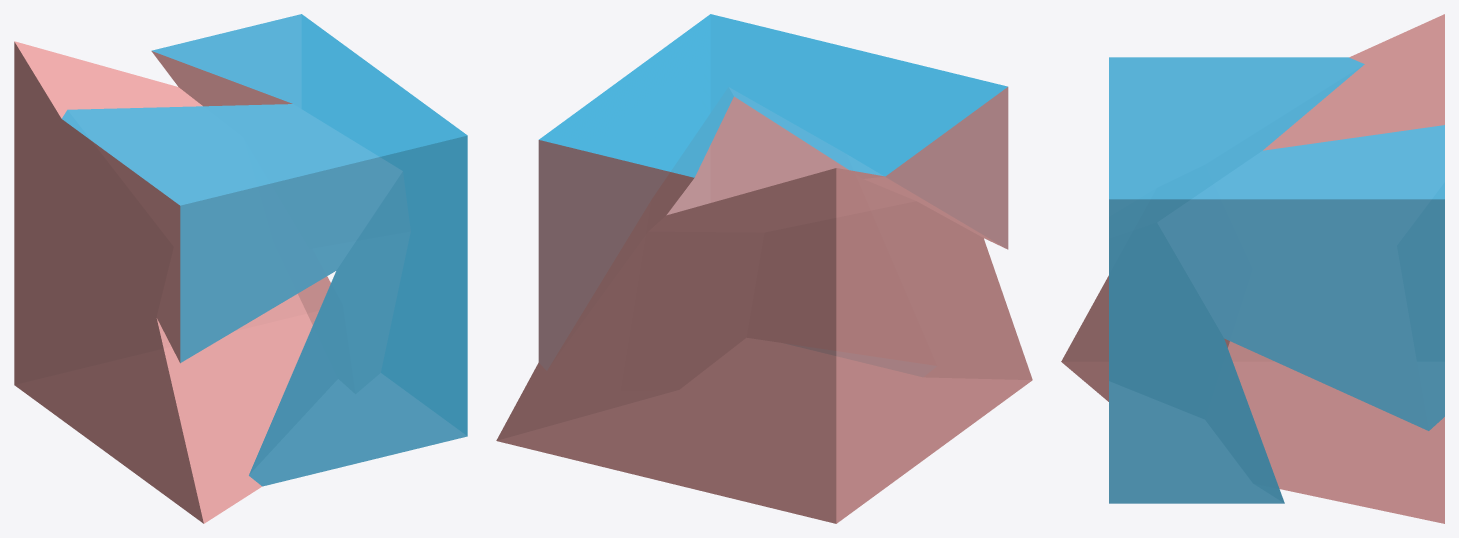
File: HeptagonalDodecahedron_C.obj
3 views of the same model, side by side, from view 1: azimuth 30°, elevation 25°; view 2: azimuth 150°, elevation 25°; view 3: azimuth 270°, elevation 25° (orthographic). The views are drawn at different scales.
Size of the model in its own units: 12 by 12 by 12.
